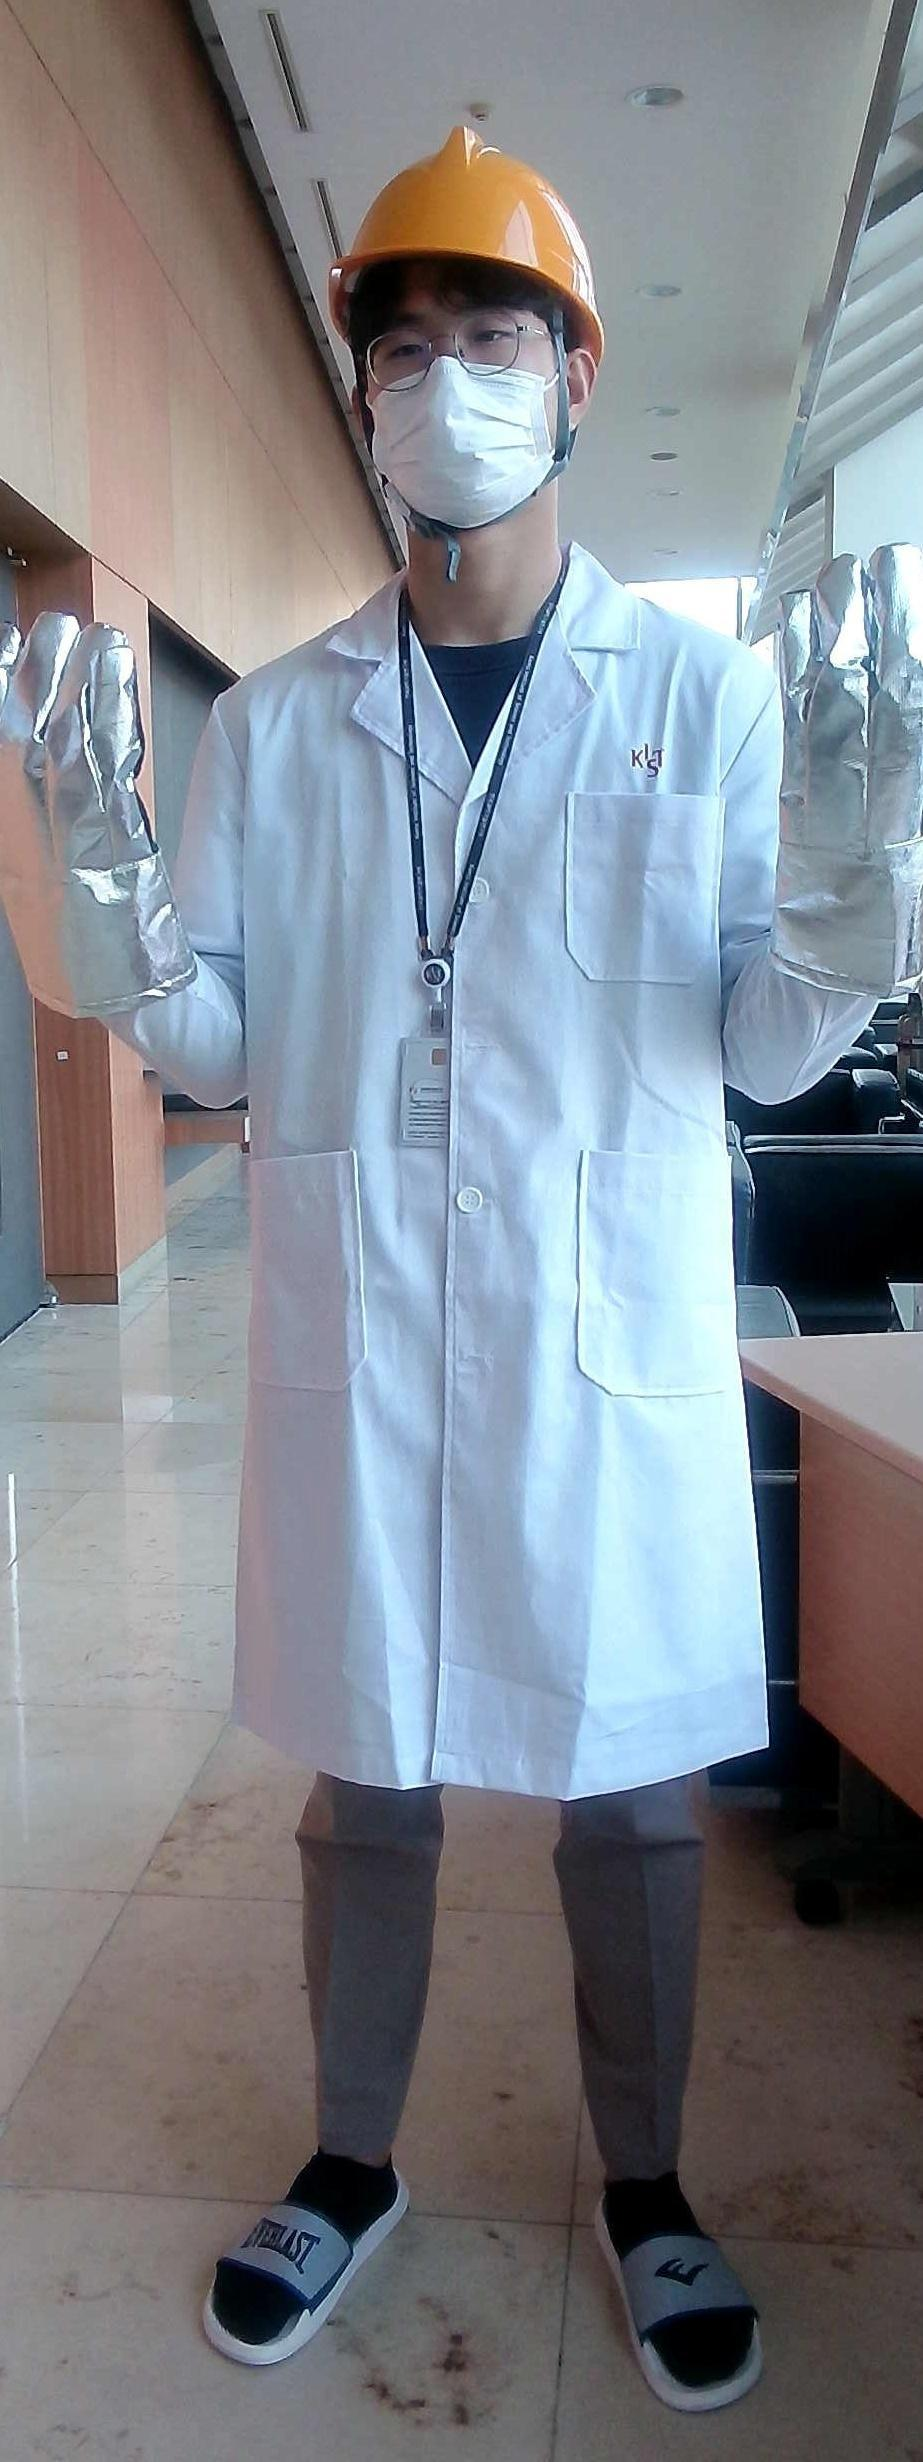lab_coat: (133, 611, 771, 1755)
